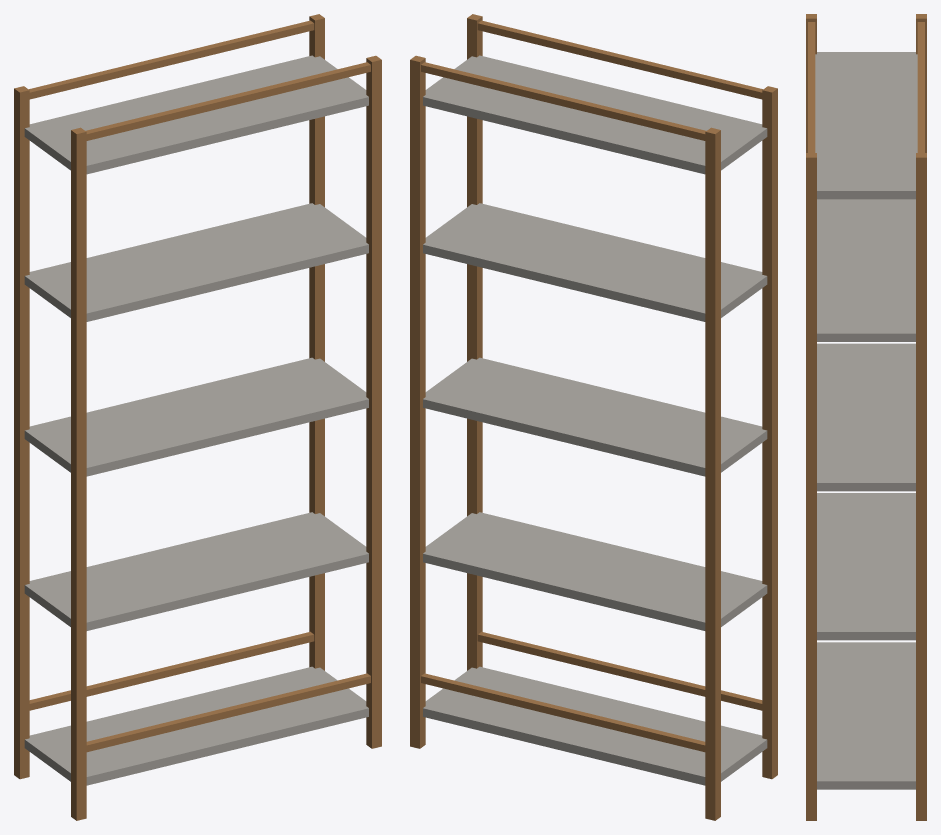
The model's file is prop_metal_shelf.fbx.
3 views of the same model, side by side, from view 1: azimuth 30°, elevation 25°; view 2: azimuth 150°, elevation 25°; view 3: azimuth 270°, elevation 25° (orthographic). The views are drawn at different scales.
Parts seen in each view (by area): view 1: Shelf_Board1.0, Shelf_Board1.45, Shelf_Board0.55, Shelf_Board1.88, Shelf_Board0.1, Shelf_Post-0.45-0.15, Shelf_Post0.45-0.15, Shelf_Post-0.450.15, Shelf_Post0.450.15, Shelf_H1.880.15, Shelf_H0.1-0.15, Shelf_H1.88-0.15 (+1 smaller); view 2: Shelf_Board1.0, Shelf_Board1.45, Shelf_Board0.55, Shelf_Board1.88, Shelf_Board0.1, Shelf_Post-0.450.15, Shelf_Post0.450.15, Shelf_Post-0.45-0.15, Shelf_Post0.45-0.15, Shelf_H1.88-0.15, Shelf_H0.10.15, Shelf_H1.880.15 (+1 smaller); view 3: Shelf_Board1.88, Shelf_Board1.0, Shelf_Board0.1, Shelf_Board0.55, Shelf_Board1.45, Shelf_Post0.45-0.15, Shelf_Post0.450.15, Shelf_H1.88-0.15, Shelf_H1.880.15, Shelf_Post-0.45-0.15, Shelf_Post-0.450.15.
Boxes of the visible parts, x1=… form: Shelf_Board1.0: x1=24, y1=357, x2=368, y2=476; Shelf_Board1.45: x1=24, y1=203, x2=368, y2=321; Shelf_Board0.55: x1=24, y1=512, x2=368, y2=630; Shelf_Board1.88: x1=24, y1=55, x2=368, y2=174; Shelf_Board0.1: x1=24, y1=666, x2=368, y2=785; Shelf_Post-0.45-0.15: x1=71, y1=127, x2=86, y2=820; Shelf_Post0.45-0.15: x1=366, y1=55, x2=381, y2=748; Shelf_Post-0.450.15: x1=14, y1=86, x2=29, y2=779; Shelf_Post0.450.15: x1=309, y1=14, x2=324, y2=670; Shelf_H1.880.15: x1=29, y1=20, x2=314, y2=99; Shelf_H0.1-0.15: x1=86, y1=673, x2=370, y2=752; Shelf_H1.88-0.15: x1=86, y1=62, x2=370, y2=140; Shelf_Board1.0: x1=423, y1=357, x2=767, y2=476; Shelf_Board1.45: x1=423, y1=203, x2=767, y2=321; Shelf_Board0.55: x1=423, y1=512, x2=767, y2=630; Shelf_Board1.88: x1=423, y1=55, x2=767, y2=174; Shelf_Board0.1: x1=423, y1=666, x2=767, y2=785; Shelf_Post-0.450.15: x1=705, y1=127, x2=720, y2=820; Shelf_Post0.450.15: x1=410, y1=55, x2=425, y2=748; Shelf_Post-0.45-0.15: x1=762, y1=86, x2=777, y2=779; Shelf_Post0.45-0.15: x1=467, y1=14, x2=482, y2=670; Shelf_H1.88-0.15: x1=477, y1=20, x2=762, y2=99; Shelf_H0.10.15: x1=421, y1=673, x2=705, y2=752; Shelf_H1.880.15: x1=421, y1=62, x2=705, y2=140; Shelf_Board1.88: x1=815, y1=52, x2=917, y2=199; Shelf_Board1.0: x1=817, y1=343, x2=915, y2=491; Shelf_Board0.1: x1=817, y1=642, x2=915, y2=789; Shelf_Board0.55: x1=817, y1=493, x2=915, y2=640; Shelf_Board1.45: x1=817, y1=199, x2=915, y2=341; Shelf_Post0.45-0.15: x1=806, y1=153, x2=816, y2=820; Shelf_Post0.450.15: x1=916, y1=153, x2=926, y2=820; Shelf_H1.88-0.15: x1=808, y1=22, x2=815, y2=152; Shelf_H1.880.15: x1=917, y1=22, x2=924, y2=152; Shelf_Post-0.45-0.15: x1=806, y1=14, x2=816, y2=152; Shelf_Post-0.450.15: x1=916, y1=14, x2=926, y2=152.
Bounding box in the file's own units: 93 × 200 × 33.
